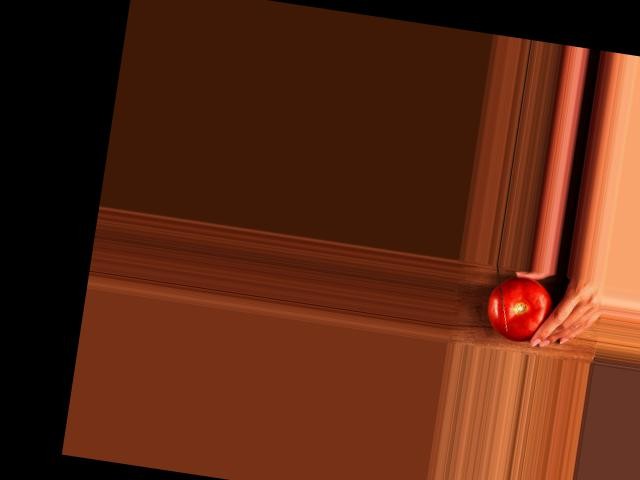tomato: (484, 273, 556, 345)
